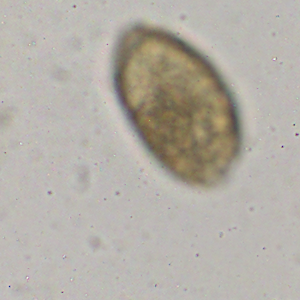Fasciola_hepatica_egg: (113, 21, 242, 190)
